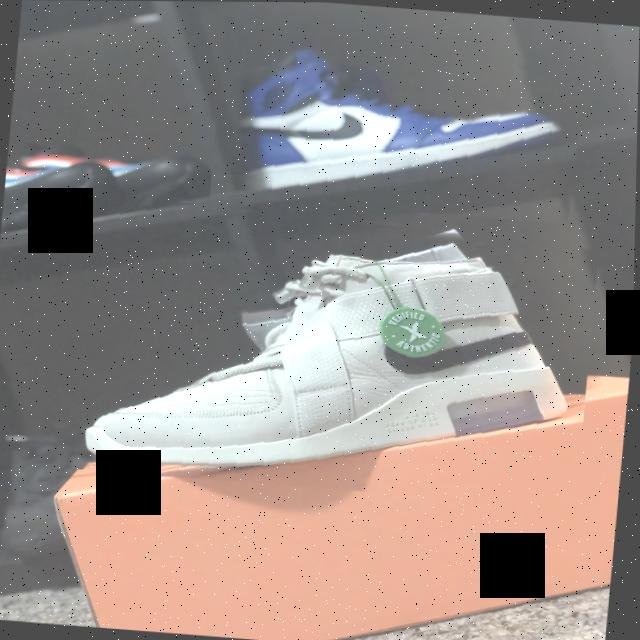shoe: (56, 190, 602, 507), (210, 28, 590, 223)
